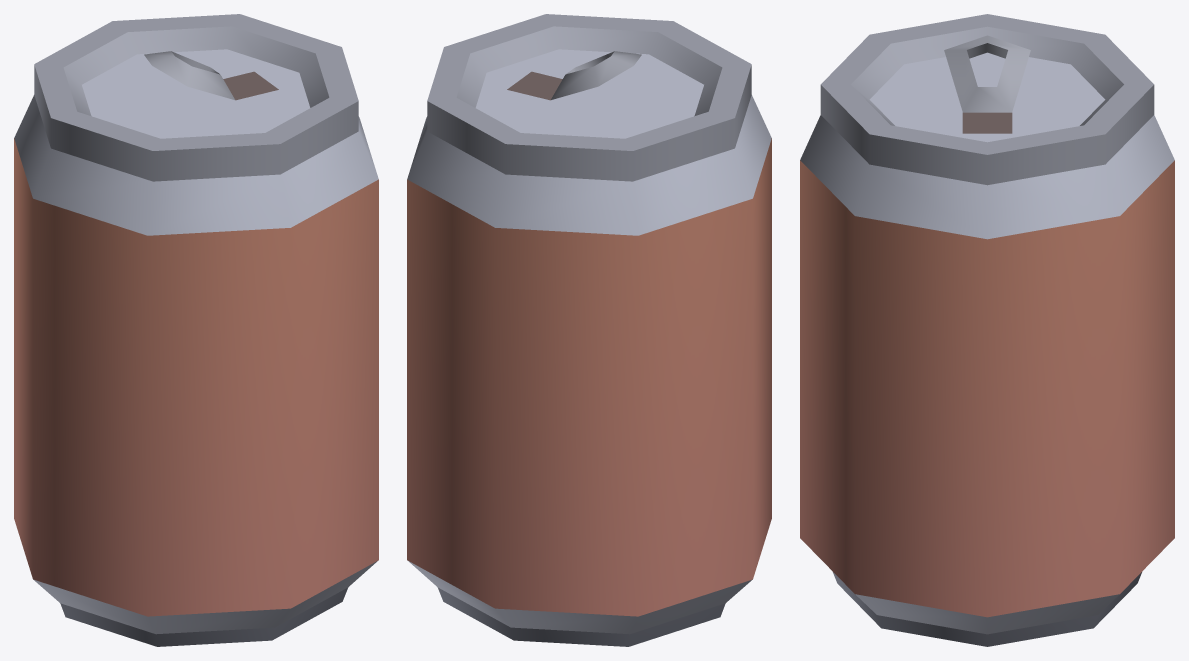
Rendered from soda-can.glb.
3 renders of one model, left to right at view 1: azimuth 30°, elevation 25°; view 2: azimuth 150°, elevation 25°; view 3: azimuth 270°, elevation 25°, orthographic.
Visible parts, largest first — view 1: soda-can; view 2: soda-can; view 3: soda-can.
Part boxes in pixels (<box>): soda-can: <box>14,14,378,646</box>; soda-can: <box>407,14,771,646</box>; soda-can: <box>800,14,1174,646</box>.
Bounding box in the file's own units: 0.2246 × 0.3506 × 0.2246.
